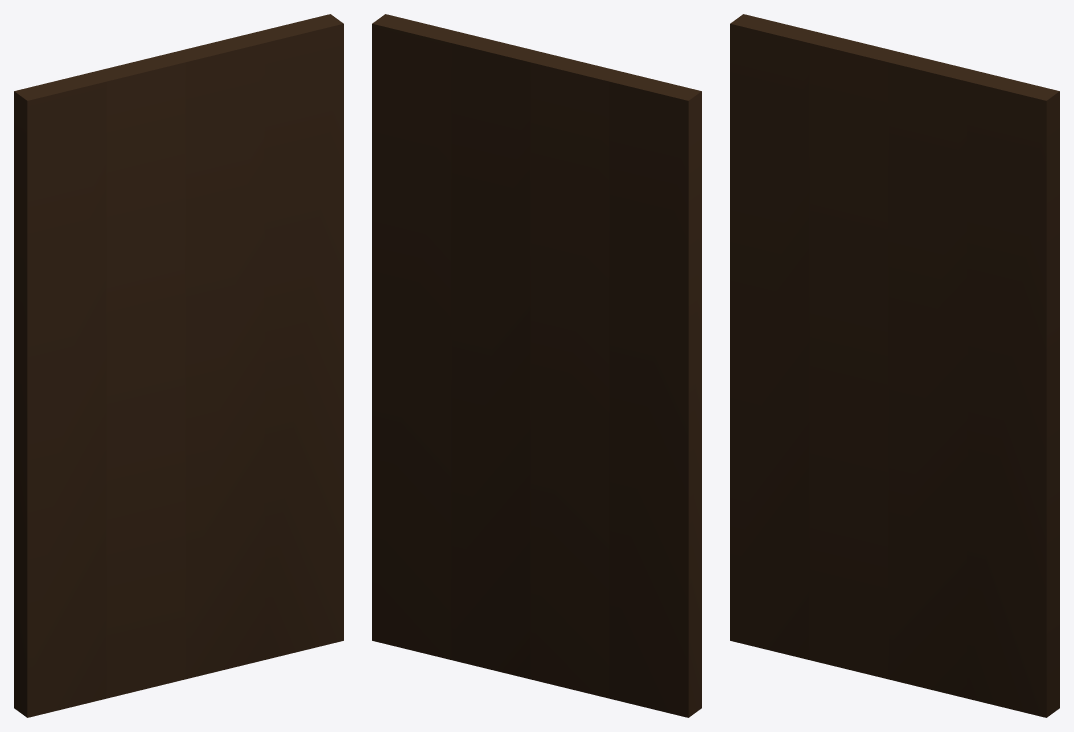
The model's file is kit_door.glb.
3 views of the same model, side by side, from view 1: azimuth 30°, elevation 25°; view 2: azimuth 150°, elevation 25°; view 3: azimuth 330°, elevation 25° (orthographic).
Visible parts, largest first — view 1: door; view 2: door; view 3: door.
Boxes of the visible parts, box(x1,y1,x2,y2) form: door: box(14, 14, 343, 717); door: box(372, 14, 701, 717); door: box(730, 14, 1059, 717).
Bounding box in the file's own units: 1.1 × 2.05 × 0.08.
